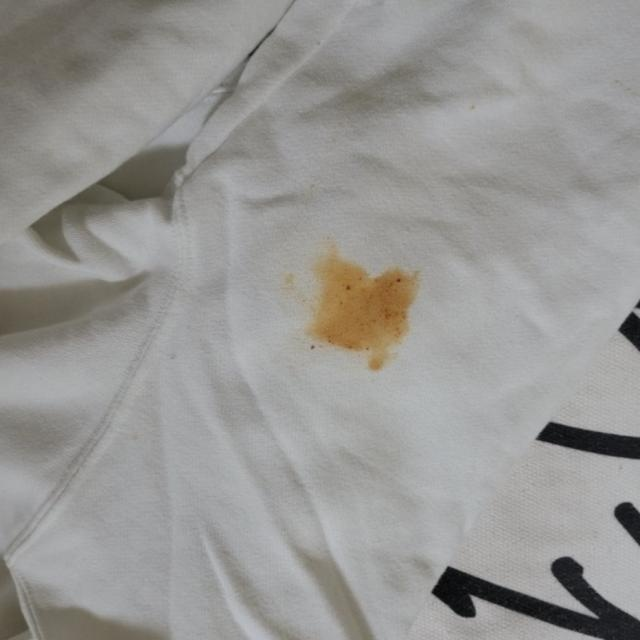kimchi: (272, 236, 423, 383)
